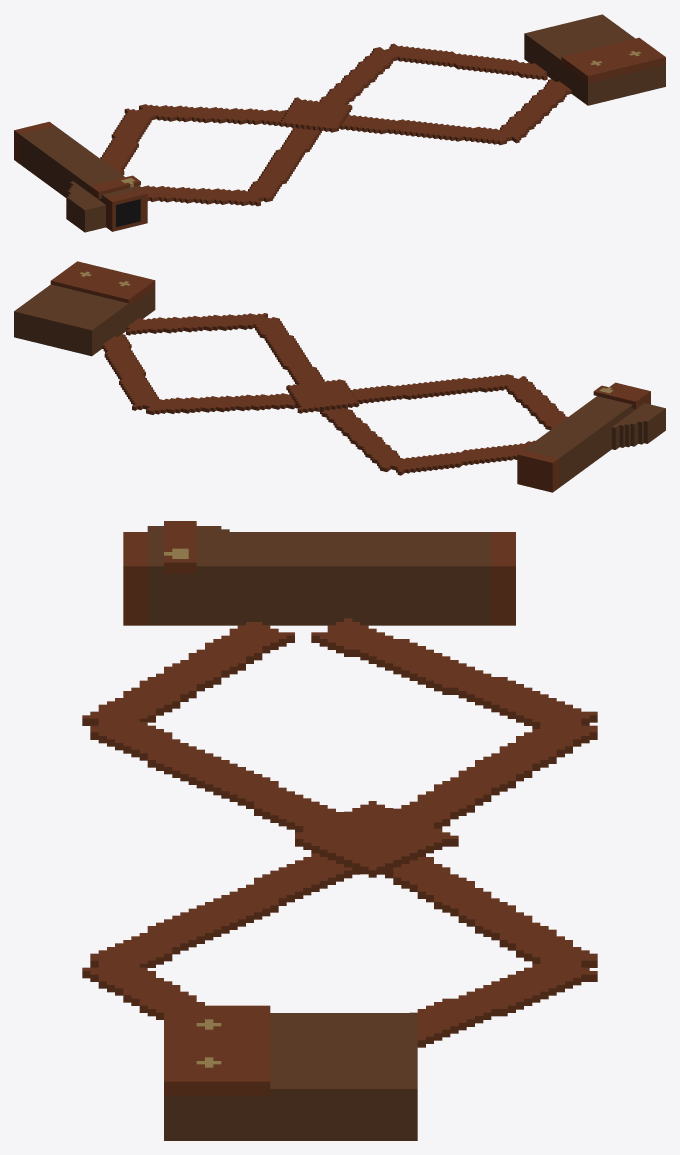
Rendered from shoulder_holster.glb.
3 views of the same model, one above another, from view 1: azimuth 30°, elevation 25°; view 2: azimuth 150°, elevation 25°; view 3: azimuth 270°, elevation 25° (orthographic). The views are drawn at different scales.
Visible parts, largest first — view 1: shoulder_holster:compound; view 2: shoulder_holster:compound; view 3: shoulder_holster:compound.
Part boxes in pixels (x1,y1,x2,y2): shoulder_holster:compound: [14, 14, 665, 232]; shoulder_holster:compound: [14, 261, 665, 492]; shoulder_holster:compound: [82, 521, 597, 1140].
Bounding box in the file's own units: 0.66 × 0.036 × 0.252.
